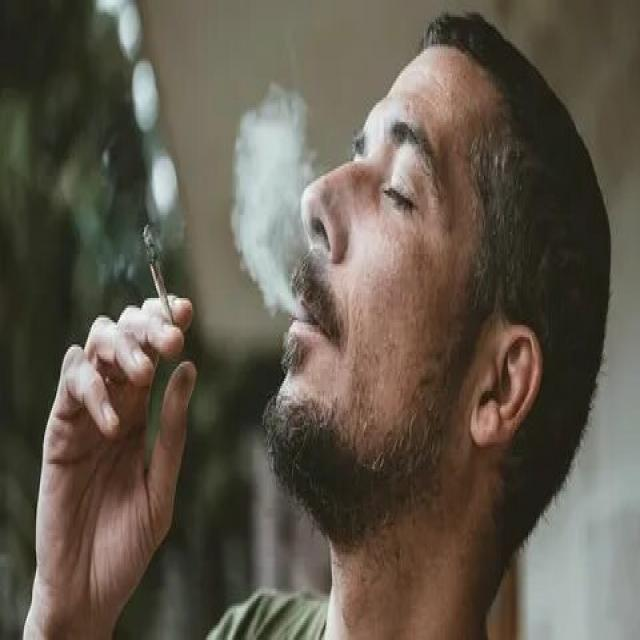cigarette: (141, 220, 180, 347)
